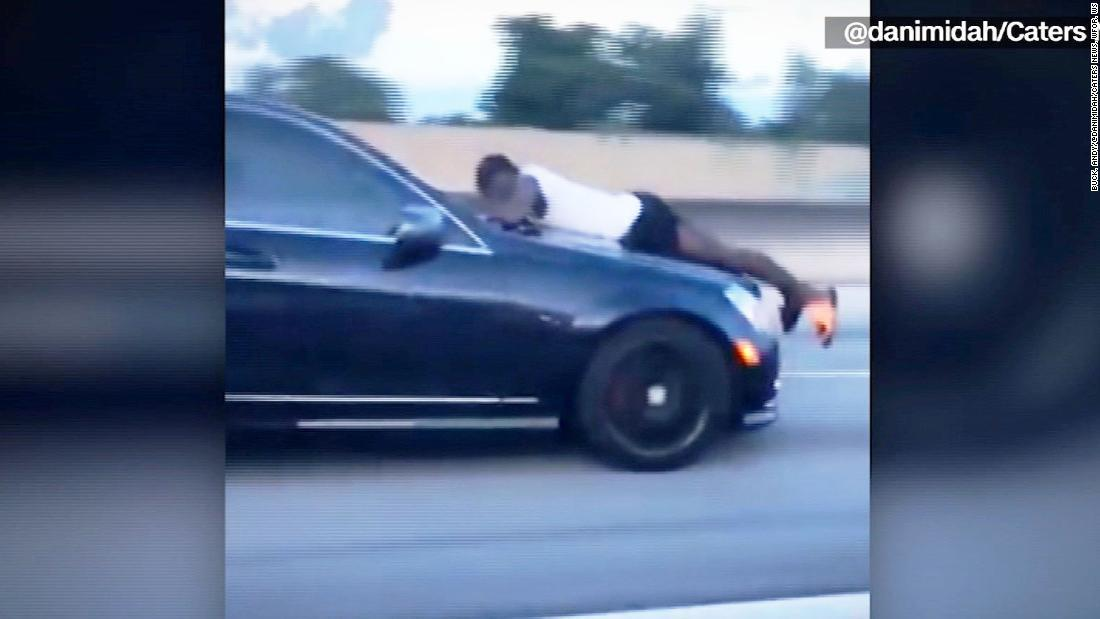car: (222, 75, 812, 496)
